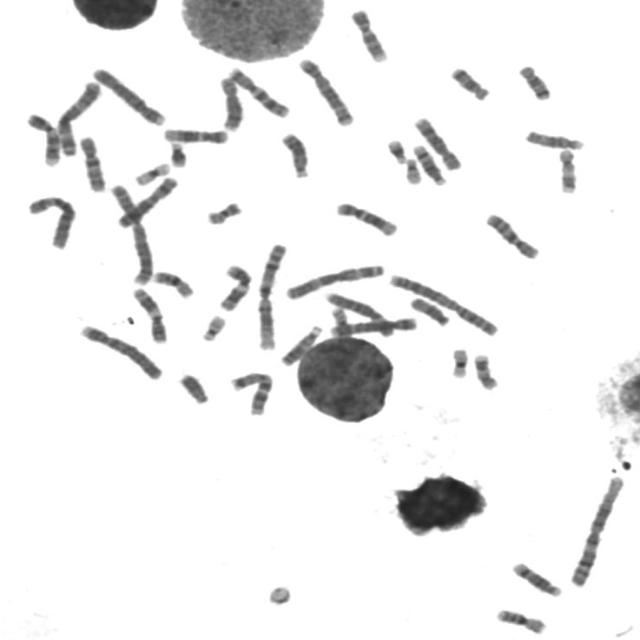A1: (564, 471, 627, 588), (252, 238, 289, 352)
A2: (384, 269, 500, 338), (104, 179, 155, 287)
A3: (280, 259, 388, 301), (52, 75, 104, 157)
B4: (75, 319, 166, 382), (87, 63, 168, 127)
B5: (294, 54, 356, 128), (326, 312, 419, 337)
C10: (480, 208, 542, 260), (74, 132, 108, 194)
C11: (128, 284, 168, 344), (214, 260, 254, 312)
C12: (331, 197, 400, 237), (158, 124, 230, 144)
C6: (321, 288, 395, 338), (22, 190, 78, 250)
C7: (222, 62, 292, 119), (225, 367, 275, 417)
C8: (409, 112, 464, 171), (214, 72, 245, 132)
C9: (346, 4, 390, 64), (21, 108, 62, 168)
D13: (275, 321, 324, 367), (276, 128, 312, 179)
D14: (507, 558, 565, 598), (408, 140, 448, 187)
D15: (520, 125, 586, 151), (406, 293, 452, 327)
E16: (491, 604, 548, 636), (147, 266, 195, 300)
E17: (469, 349, 501, 392), (553, 144, 579, 195)
E18: (446, 62, 492, 101), (514, 60, 553, 101)
F19: (129, 158, 172, 186), (446, 342, 470, 380)
F20: (200, 197, 245, 226), (326, 305, 354, 345)
G21: (382, 134, 409, 165), (164, 138, 189, 168)
G22: (196, 310, 228, 343), (400, 154, 424, 185)
X: (111, 172, 180, 229)
Y: (174, 369, 211, 405)
